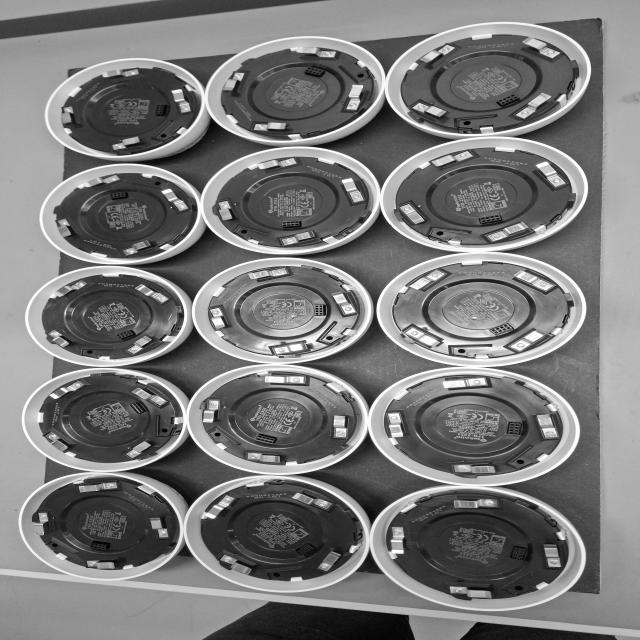yaysiz: (532, 159, 570, 192), (507, 268, 556, 293), (430, 147, 480, 171), (290, 487, 334, 513), (335, 175, 373, 205), (405, 268, 448, 294), (480, 221, 533, 242), (214, 554, 264, 576), (511, 327, 552, 352), (270, 335, 314, 358), (521, 37, 563, 61), (517, 92, 553, 120), (532, 411, 563, 443), (128, 282, 169, 306), (202, 494, 238, 521), (402, 327, 446, 349), (448, 582, 500, 600), (444, 461, 502, 477), (338, 82, 371, 110), (157, 186, 190, 214), (49, 279, 91, 301), (448, 494, 501, 511), (417, 43, 457, 65), (289, 43, 339, 60), (207, 304, 235, 334), (277, 230, 326, 247), (244, 265, 290, 283), (408, 99, 451, 118), (329, 288, 356, 318), (146, 514, 176, 541), (91, 68, 141, 84), (248, 156, 298, 172), (68, 480, 121, 495), (246, 119, 295, 135), (398, 200, 427, 227), (539, 540, 565, 570), (386, 526, 411, 556), (106, 135, 143, 155), (330, 412, 356, 440), (244, 450, 289, 466), (384, 410, 408, 440), (318, 548, 348, 572), (436, 377, 491, 390), (126, 438, 160, 459), (42, 431, 76, 452), (119, 239, 156, 258), (46, 382, 83, 401), (129, 386, 166, 405), (221, 71, 250, 95), (48, 329, 79, 351), (31, 510, 54, 539), (127, 334, 160, 354), (212, 199, 239, 223), (171, 88, 193, 116), (80, 174, 121, 189), (201, 398, 221, 427), (58, 104, 82, 128), (256, 375, 308, 386), (88, 559, 130, 571), (56, 218, 76, 238)
